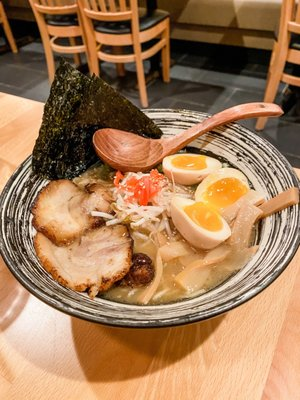sushi: (0, 129, 298, 328)
taco: (162, 153, 222, 186)
